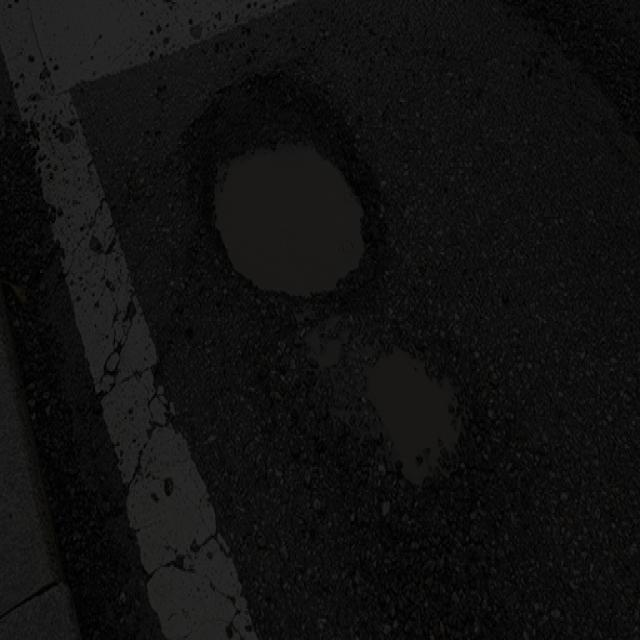pothole: (181, 63, 395, 320), (349, 332, 479, 506)
